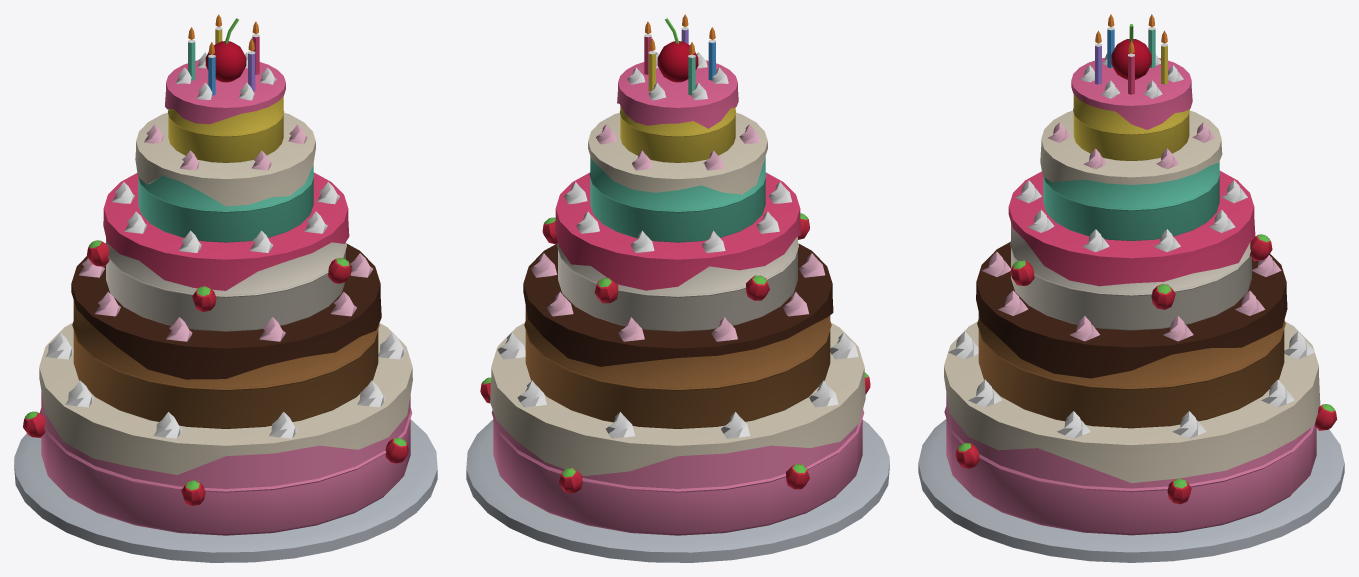
The model's file is cake_tower.glb.
3 renders of one model, left to right at view 1: azimuth 30°, elevation 25°; view 2: azimuth 150°, elevation 25°; view 3: azimuth 270°, elevation 25°, orthographic.
Parts seen in each view (by area): view 1: cake_tower; view 2: cake_tower; view 3: cake_tower.
Part boxes in pixels (x1,y1,x2,y2): cake_tower: (14, 14, 437, 562); cake_tower: (466, 14, 889, 562); cake_tower: (918, 14, 1344, 562).
Bounding box in the file's own units: 9.2 × 10.82 × 9.2.
